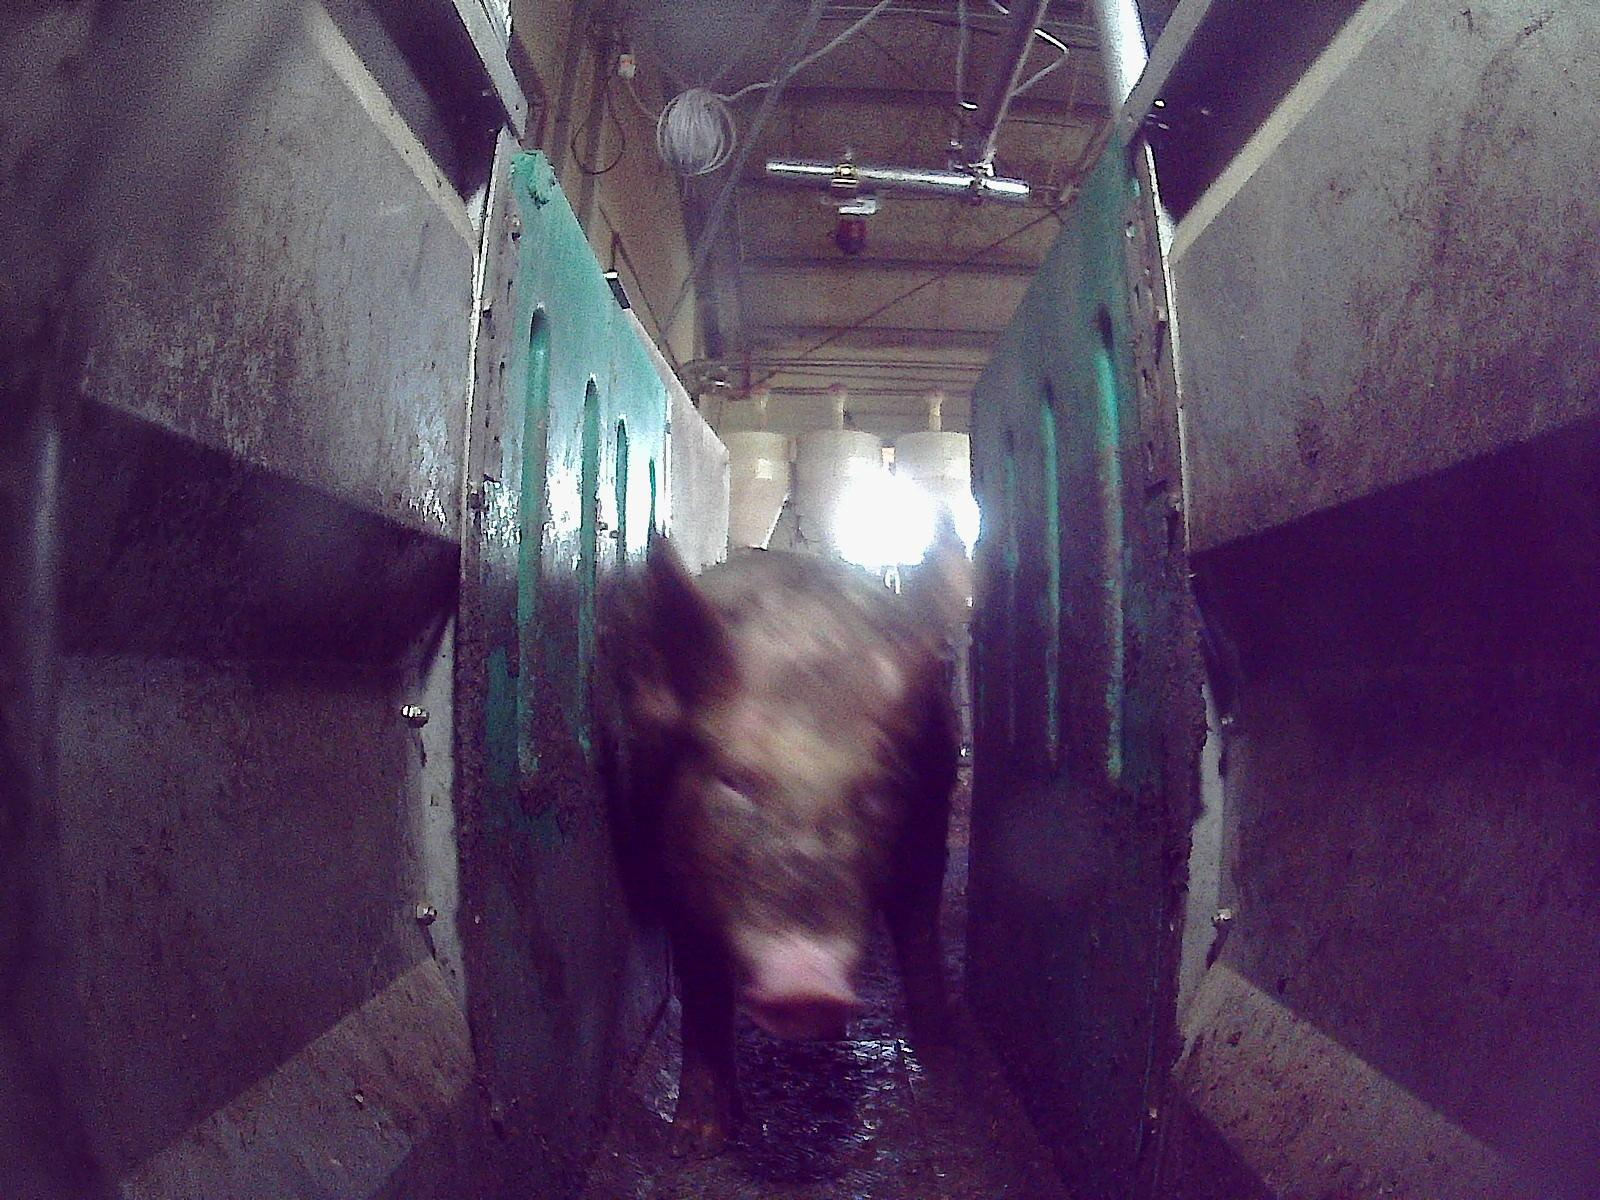Face: (685, 634, 916, 1035)
